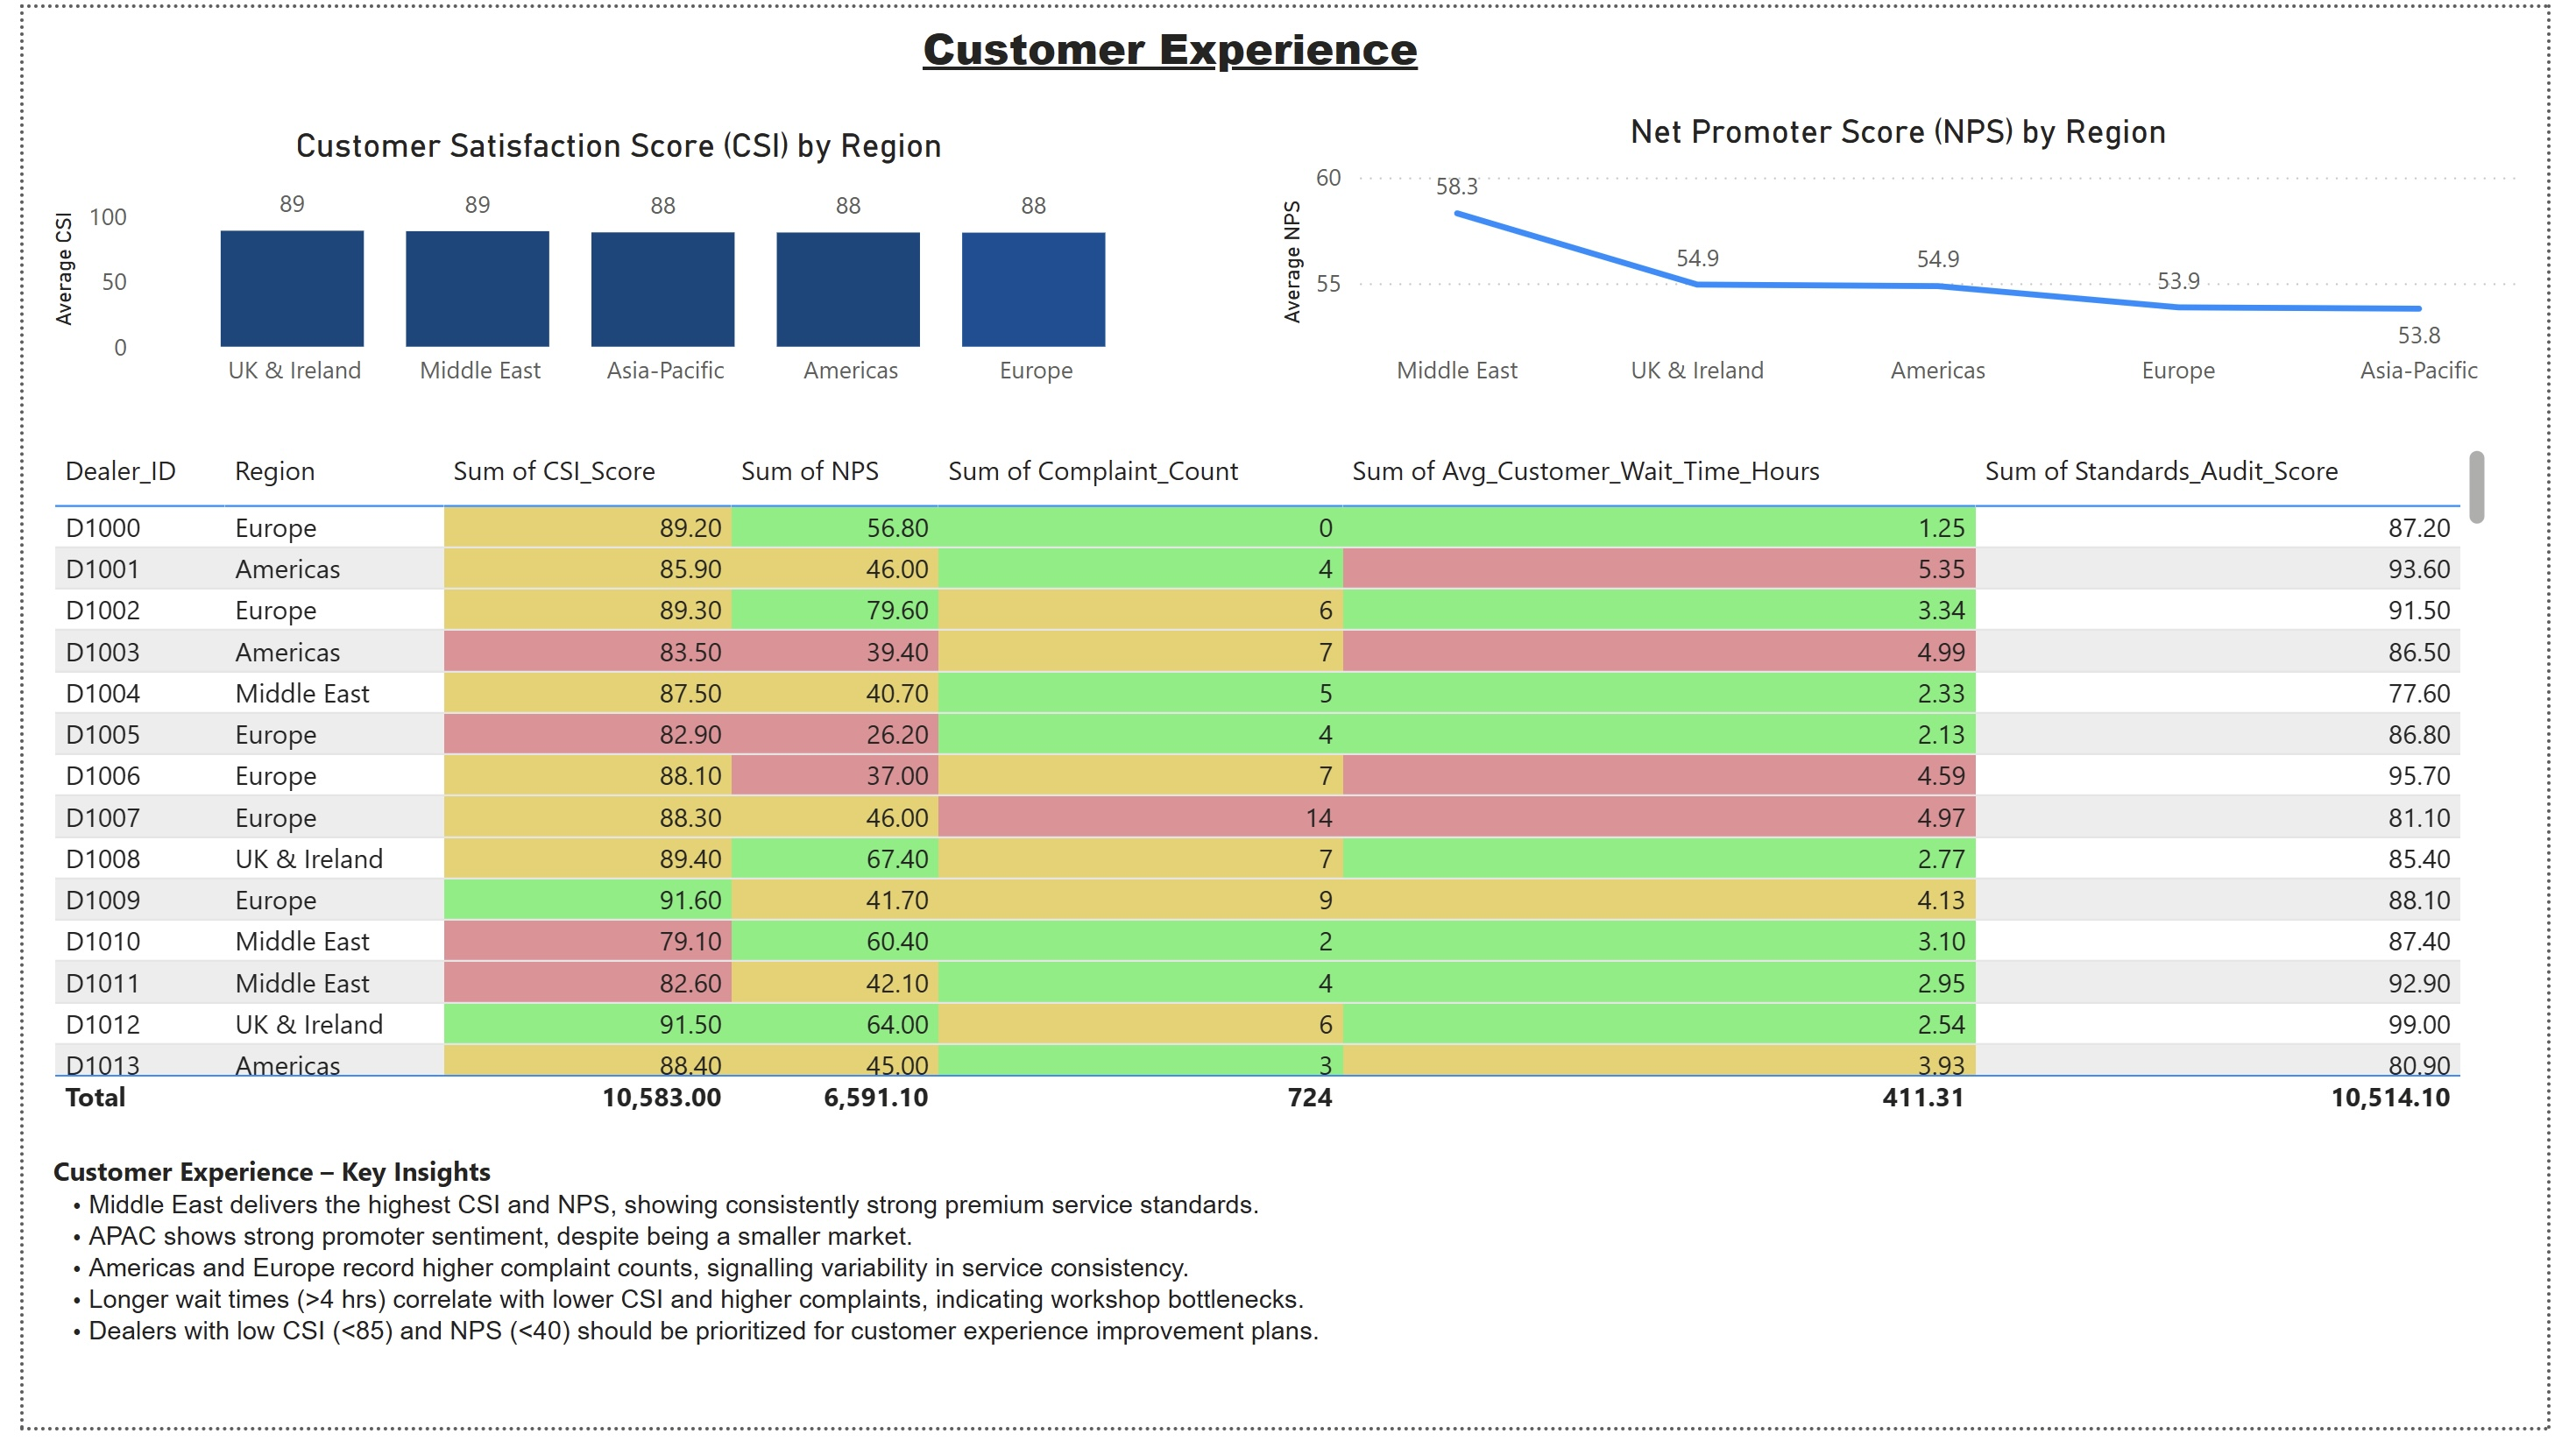

The dashboard page shown, as its layout file describes it:
{"tool":"powerbi","page":{"name":"Customer Experience(CSI, NPS & Complaints)","canvas":[1280,720],"ordinal":3},"visuals":[{"type":"clusteredColumnChart","title":"Customer Satisfaction Score (CSI) by Region","fields":{"Category":["dealer_kpis_luxury.Region"],"Y":["dealer_kpis_luxury.Average CSI"]},"box":[10,60.3,583.8,141.9],"z":0},{"type":"lineChart","title":"Net Promoter Score (NPS) by Region","fields":{"Category":["dealer_kpis_luxury.Region"],"Y":["dealer_kpis_luxury.Average NPS"]},"box":[632.7,52.7,636.5,149.4],"z":1000},{"type":"tableEx","fields":{"Values":["dealer_kpis_luxury.Dealer_ID","dealer_kpis_luxury.Region","Sum(dealer_kpis_luxury.CSI_Score)","Sum(dealer_kpis_luxury.NPS)","Sum(dealer_kpis_luxury.Complaint_Count)","Sum(dealer_kpis_luxury.Avg_Customer_Wait_Time_Hours)","Sum(dealer_kpis_luxury.Standards_Audit_Score)"]},"box":[10,218.9,1244.4,347.8],"z":2000},{"type":"textbox","box":[10,576.3,1024.4,143.1],"z":3000},{"type":"textbox","box":[450.7,0,286.2,43.9],"z":3001}]}

Visuals, with their boxes in screenshot pixels (x1, y1, x2, y2), scaled from the page's 1280x720 canvas onto the 2576x1448 screenshot:
"Customer Satisfaction Score (CSI) by Region" clusteredColumnChart: locate(20, 121, 1195, 406)
"Net Promoter Score (NPS) by Region" lineChart: locate(1273, 106, 2554, 406)
tableEx - dealer_kpis_luxury.Dealer_ID x dealer_kpis_luxury.Region: locate(20, 441, 2524, 1140)
textbox: locate(20, 1159, 2082, 1447)
textbox: locate(907, 0, 1483, 88)
